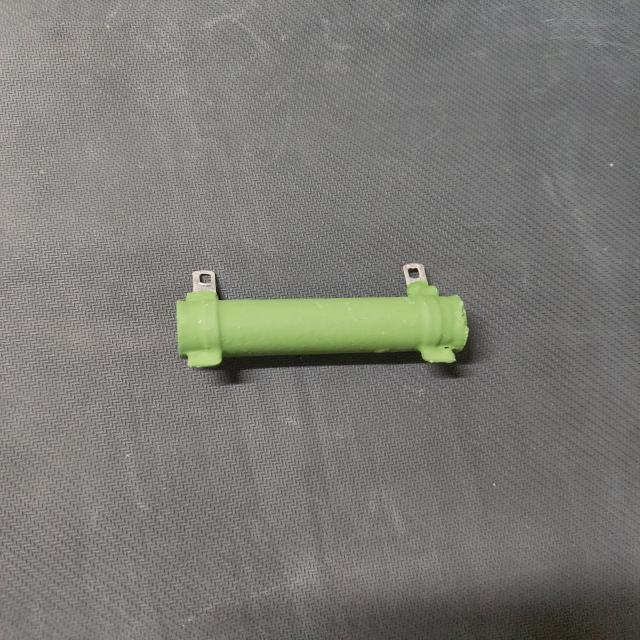resistor: (163, 255, 494, 381)
